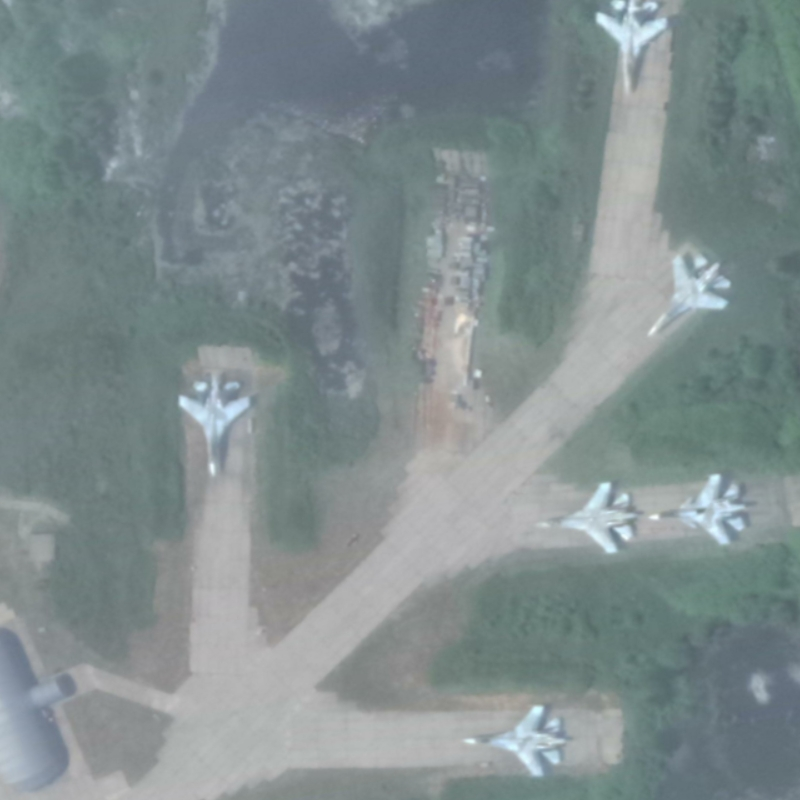A1: (458, 701, 570, 781), (640, 250, 734, 341), (532, 480, 642, 557), (175, 374, 255, 478), (645, 471, 750, 548), (591, 1, 672, 97)
